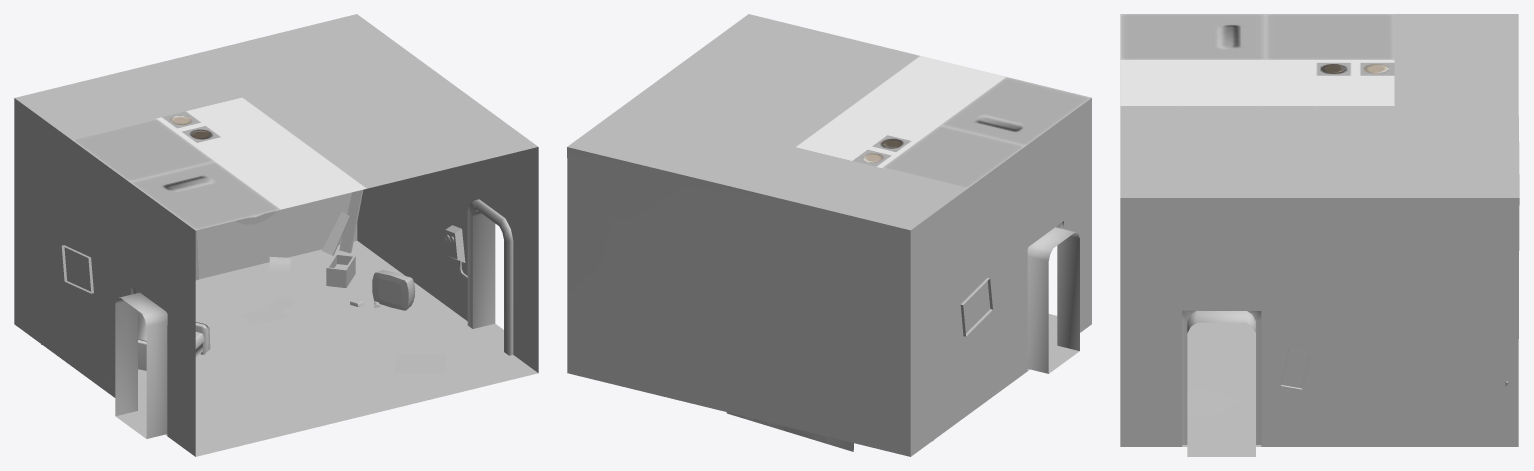
Rendered from MSH_QuestIndustrial_L2_R1_optimized.fbx.
The picture shows the model from 3 angles, left to right: view 1: azimuth 30°, elevation 25°; view 2: azimuth 150°, elevation 25°; view 3: azimuth 270°, elevation 25°; orthographic projection. The views are drawn at different scales.
Parts seen in each view (by area): view 1: lightmap0, lightmap1, MSH_QuestIndustrial_L2_R1_papers_01; view 2: lightmap1, lightmap0, MSH_QuestIndustrial_L2_R1_dirt_01; view 3: lightmap1, lightmap0, MSH_QuestIndustrial_L2_R1_papers_01.
Part boxes in pixels (box(x1,y1,x2,y2)): lightmap0: box(15, 14, 537, 456); lightmap1: box(14, 98, 538, 456); MSH_QuestIndustrial_L2_R1_papers_01: box(242, 256, 445, 374); lightmap1: box(567, 98, 1091, 456); lightmap0: box(567, 14, 1091, 441); MSH_QuestIndustrial_L2_R1_dirt_01: box(726, 412, 853, 451); lightmap1: box(1120, 198, 1519, 446); lightmap0: box(1120, 14, 1519, 456); MSH_QuestIndustrial_L2_R1_papers_01: box(1187, 386, 1241, 418).
Bounding box in the file's own units: 10.3 × 6.11 × 8.53.
